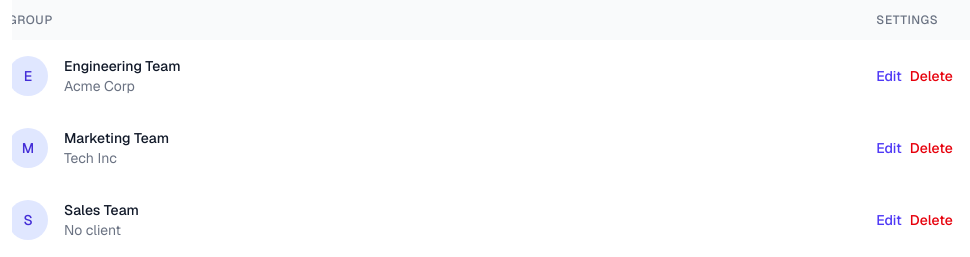
Test: GroupsTable › should disable delete button during deletion
Click the button "Delete" in the row of "Engineering Team".
click(931, 76)  # box 910,66 -> 953,86
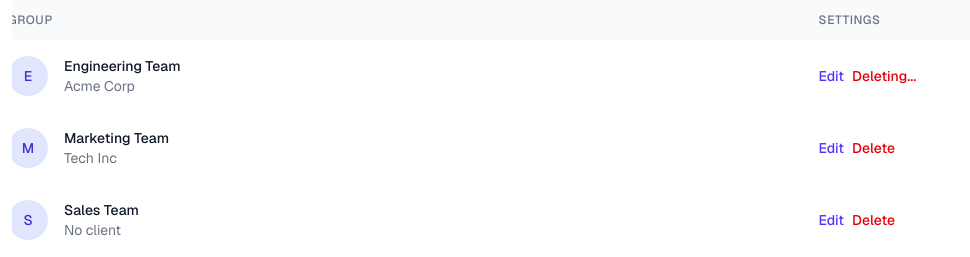
Check: the button "Deleting..." is disabled, box 852,66 -> 916,86
